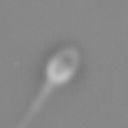normal: (7, 80, 52, 128)
